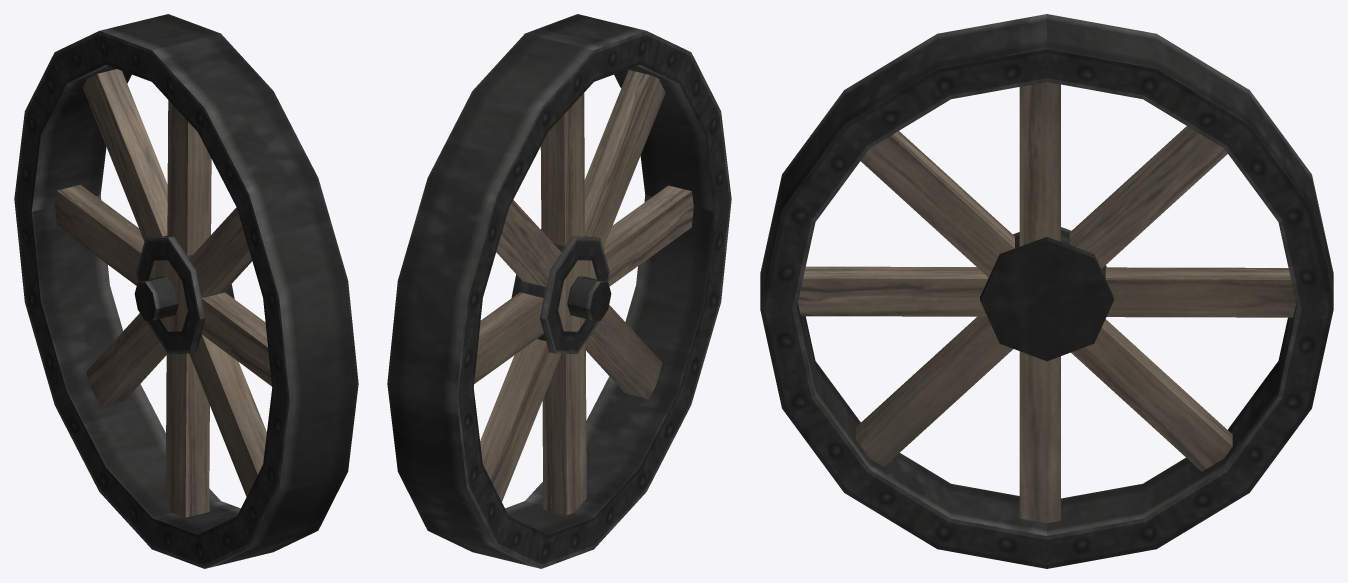
File: Cart_Wheel_A.fbx
3 renders of one model, left to right at view 1: azimuth 30°, elevation 25°; view 2: azimuth 150°, elevation 25°; view 3: azimuth 270°, elevation 25°, orthographic. The views are drawn at different scales.
Visible parts, largest first — view 1: Cart_Wheel_A; view 2: Cart_Wheel_A; view 3: Cart_Wheel_A.
Boxes of the visible parts, bbox=[...] form: Cart_Wheel_A: bbox=[14, 14, 358, 568]; Cart_Wheel_A: bbox=[387, 14, 731, 568]; Cart_Wheel_A: bbox=[760, 14, 1333, 568].
Size of the model in its own units: 0.22 by 1.39 by 1.39.
